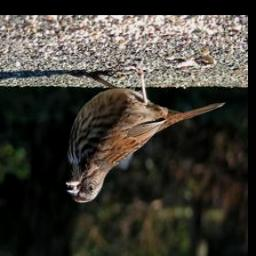Sparrow: (62, 63, 227, 208)
